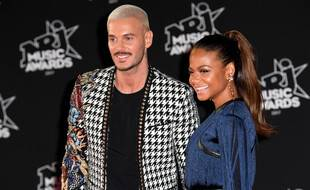without_mask: (108, 19, 147, 72), (188, 50, 227, 103)
